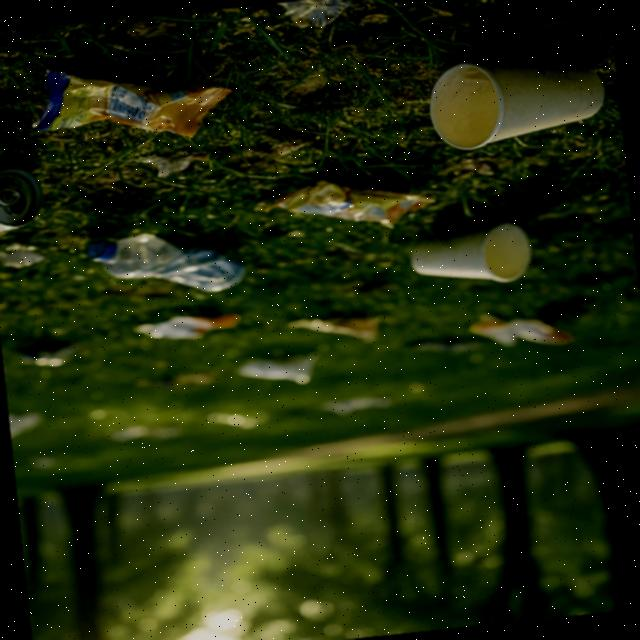aluminum: (0, 164, 44, 233)
paper: (427, 48, 612, 156), (402, 215, 528, 297)
plastic: (80, 220, 252, 302)
